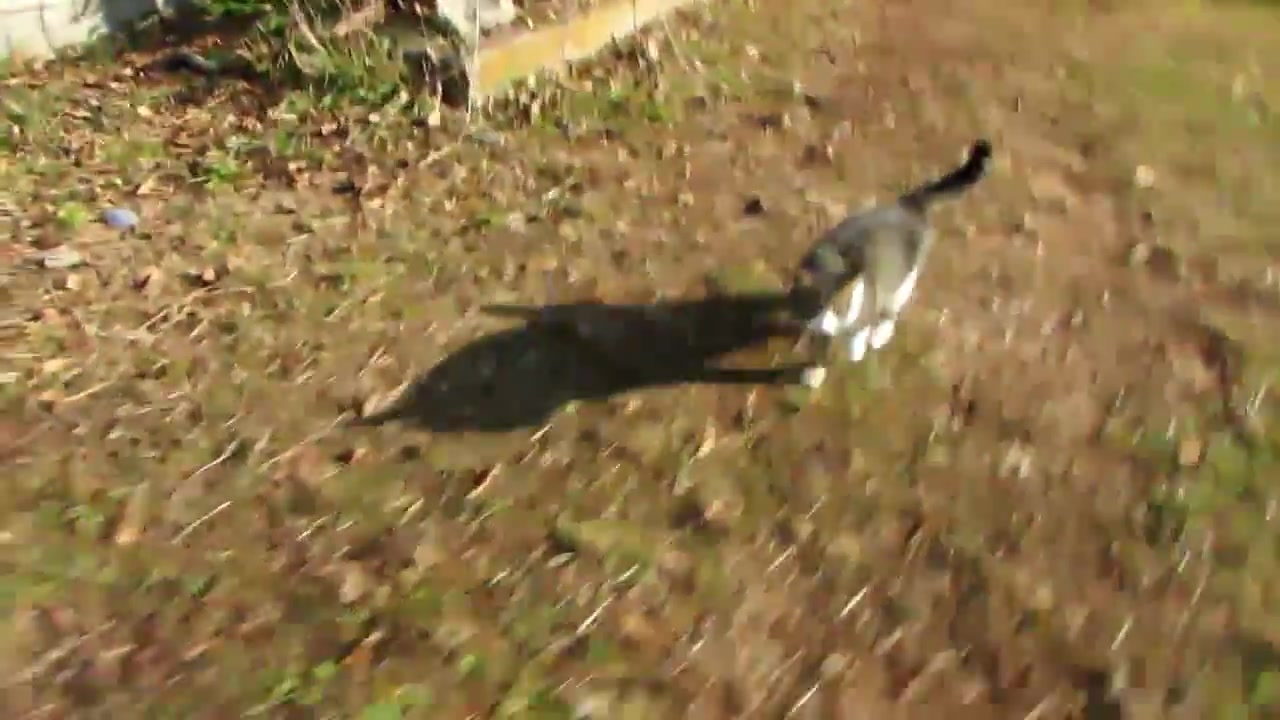cat: (787, 139, 998, 392)
